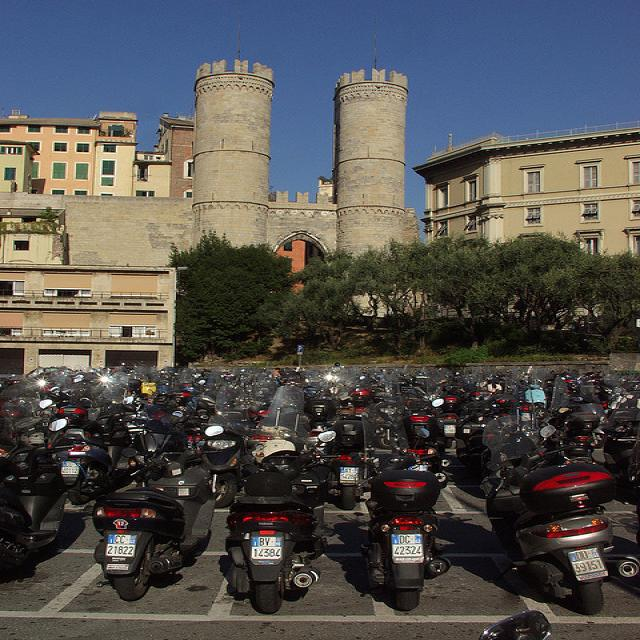motor: (1, 350, 639, 507), (480, 414, 640, 616), (202, 422, 344, 615), (86, 436, 232, 600), (361, 405, 449, 610), (0, 423, 66, 578), (45, 412, 134, 504), (123, 387, 217, 458), (324, 374, 370, 511), (591, 408, 640, 487), (390, 395, 448, 451), (437, 386, 463, 449), (154, 369, 174, 397), (236, 366, 252, 378)
